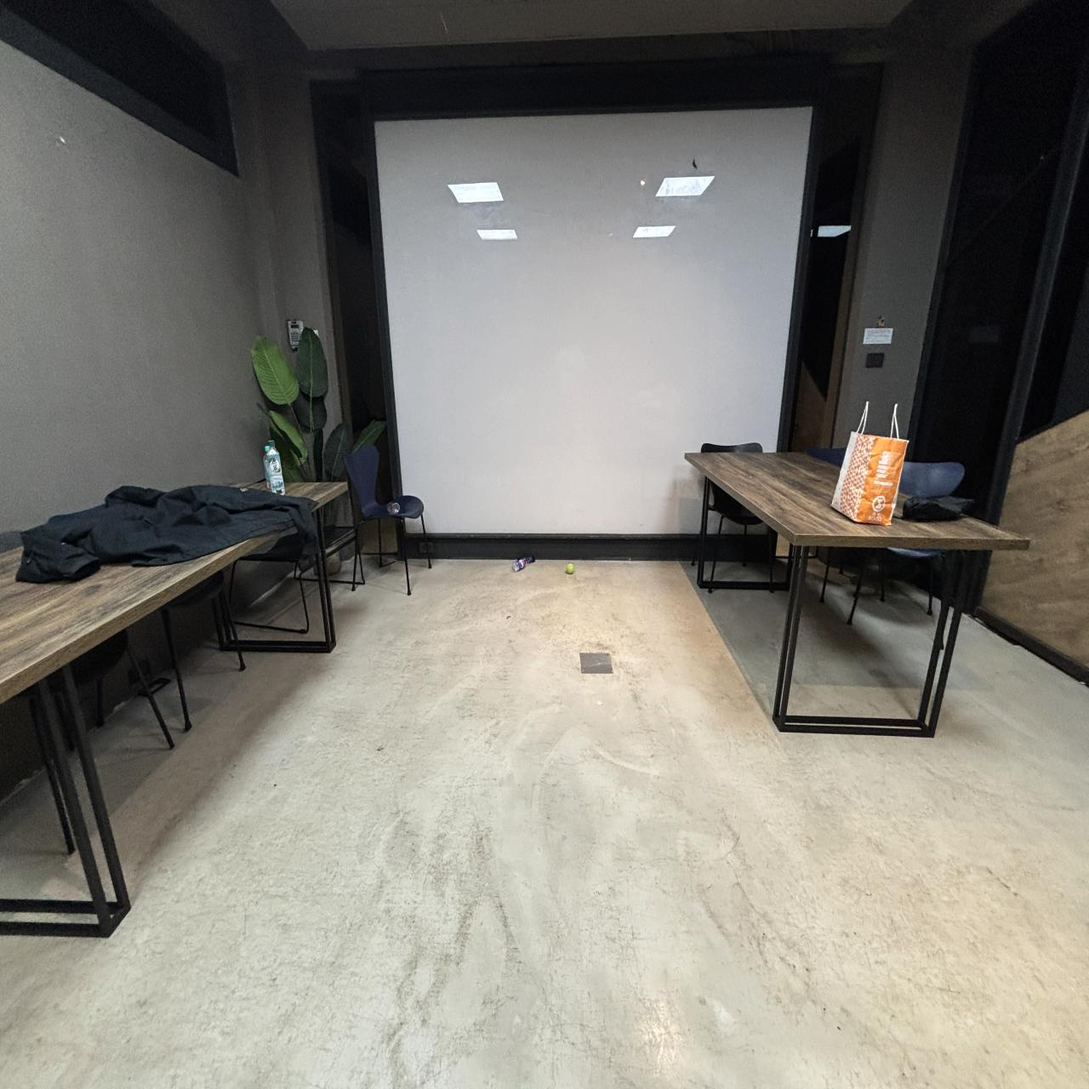plastic-bottle: (264, 443, 285, 494)
tennisball: (566, 563, 574, 574)
